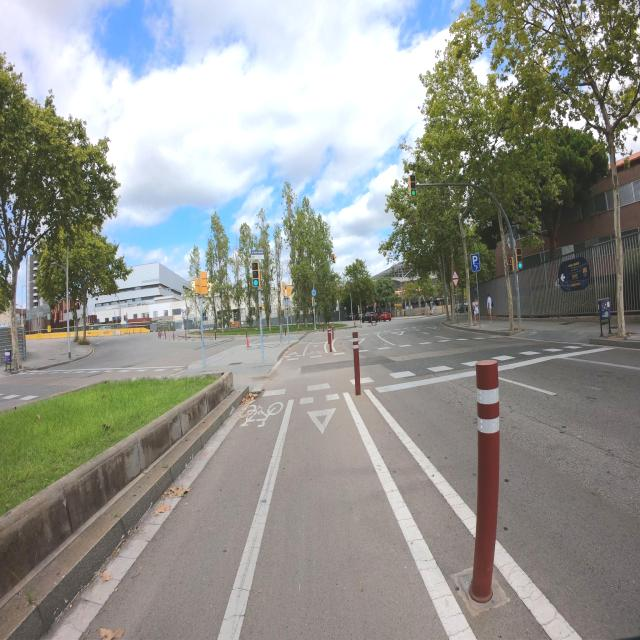car: (556, 256, 593, 292), (361, 304, 379, 324), (382, 310, 392, 321)
